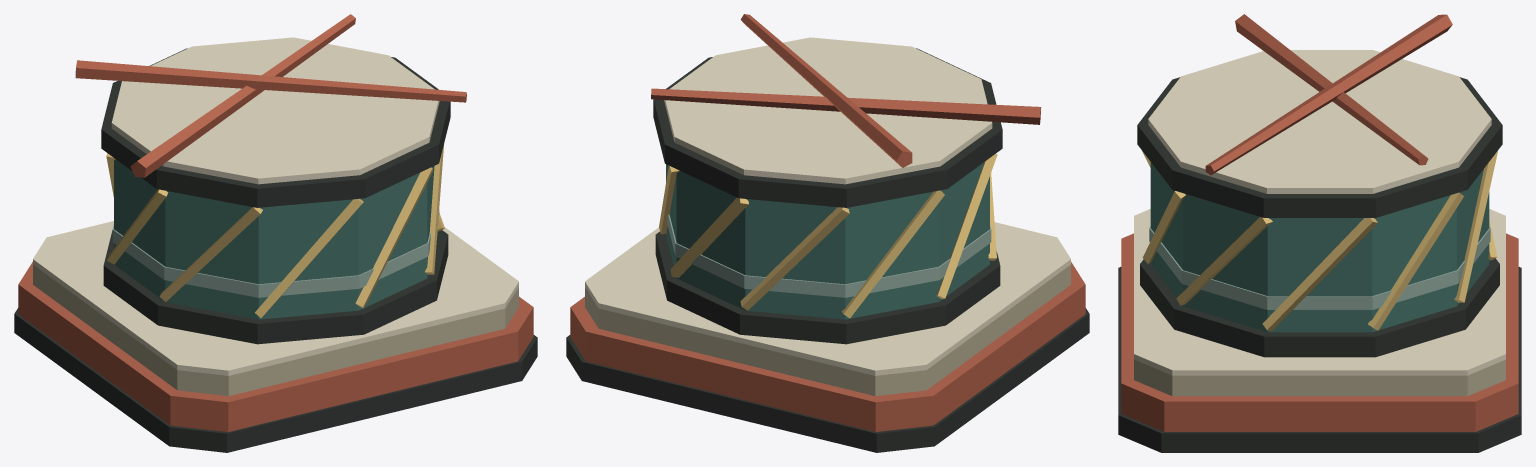
File: snare.glb
The picture shows the model from 3 angles, left to right: view 1: azimuth 30°, elevation 25°; view 2: azimuth 150°, elevation 25°; view 3: azimuth 270°, elevation 25°; orthographic projection. The views are drawn at different scales.
Parts seen in each view (by area): view 1: Snare drum; view 2: Snare drum; view 3: Snare drum.
Part boxes in pixels (x1=…): Snare drum: x1=14, y1=14, x2=537, y2=452; Snare drum: x1=566, y1=14, x2=1089, y2=452; Snare drum: x1=1118, y1=14, x2=1521, y2=452.
Bounding box in the file's own units: 1.81 × 1.28 × 1.68.
